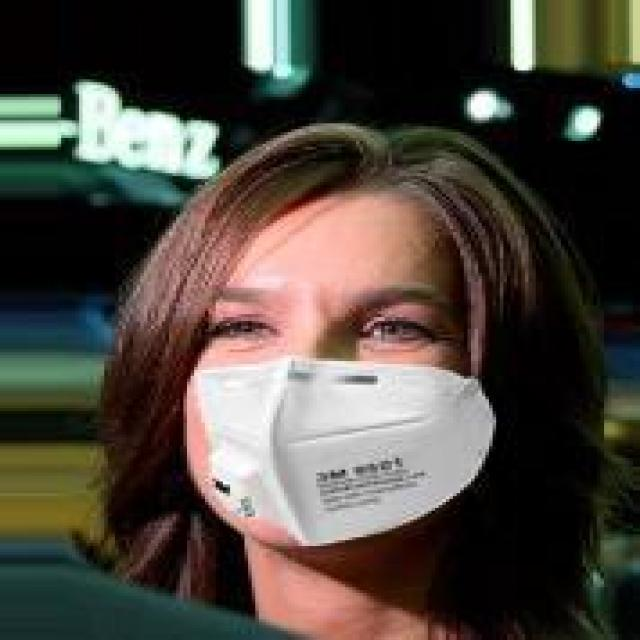mask: (72, 88, 546, 587)
